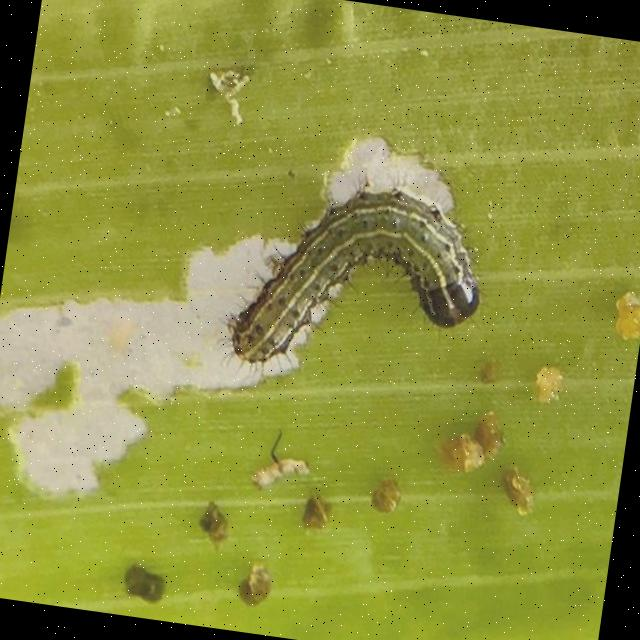worm: (216, 160, 497, 403)
